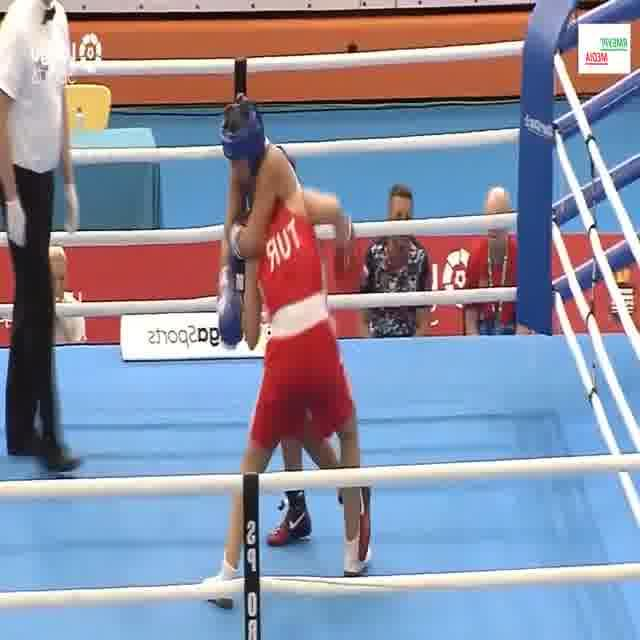blue-player: (213, 91, 378, 564)
red-player: (198, 148, 376, 614)
referee: (1, 0, 83, 476)
